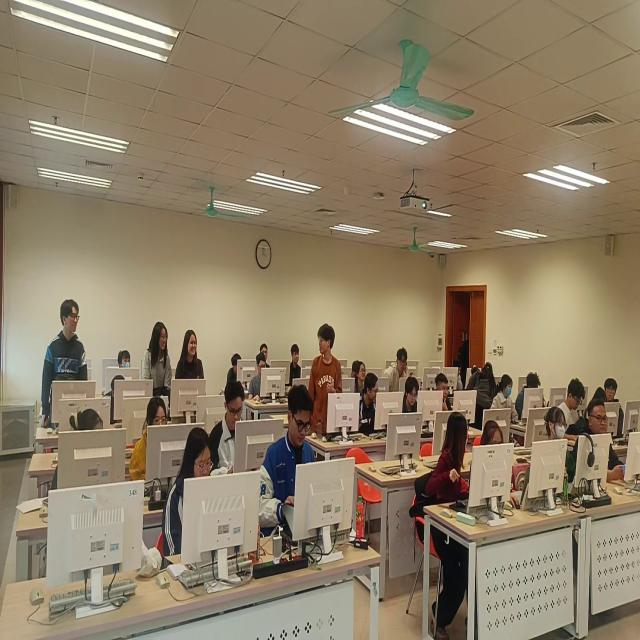raise_head: (575, 395, 625, 484), (545, 402, 577, 494), (605, 375, 626, 437), (388, 346, 411, 394), (290, 339, 303, 385), (117, 347, 134, 375), (355, 359, 368, 395), (261, 342, 271, 363)
stand: (40, 295, 88, 423), (307, 319, 344, 445), (141, 319, 174, 393), (176, 326, 207, 390), (469, 359, 498, 427)
using_computer: (261, 382, 317, 537), (163, 427, 214, 561), (480, 415, 526, 511), (52, 409, 103, 494), (127, 392, 171, 487), (211, 381, 246, 478), (517, 366, 547, 425), (357, 372, 381, 435), (562, 376, 587, 435), (493, 370, 519, 426), (105, 373, 127, 428), (249, 355, 268, 406), (435, 371, 456, 416), (402, 372, 421, 416), (227, 352, 245, 393), (594, 383, 608, 406)
